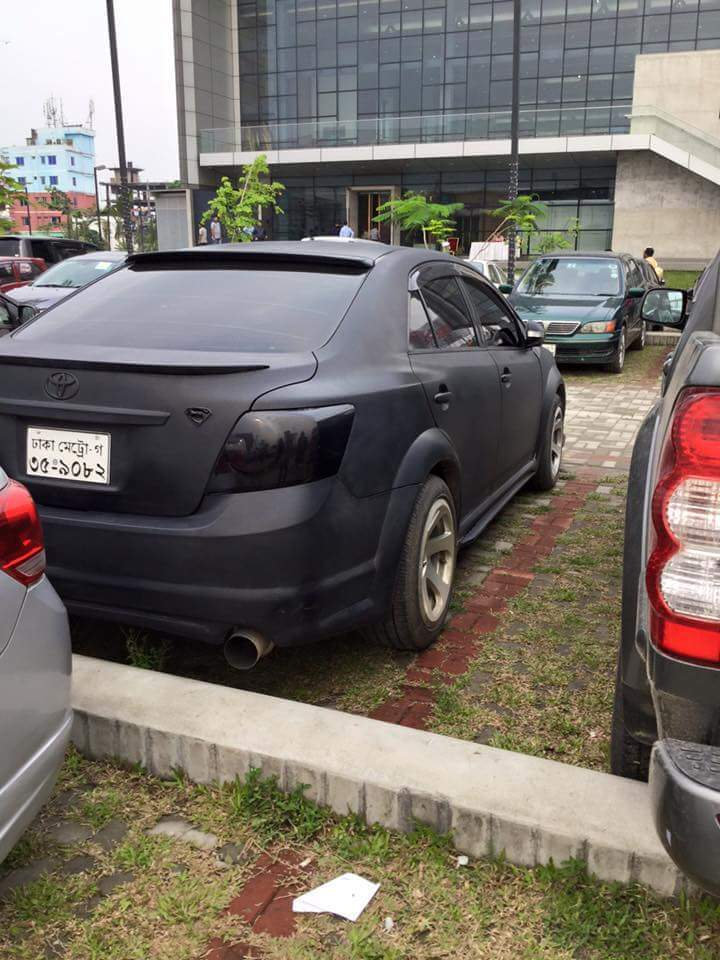registration_plate: (25, 427, 112, 484)
